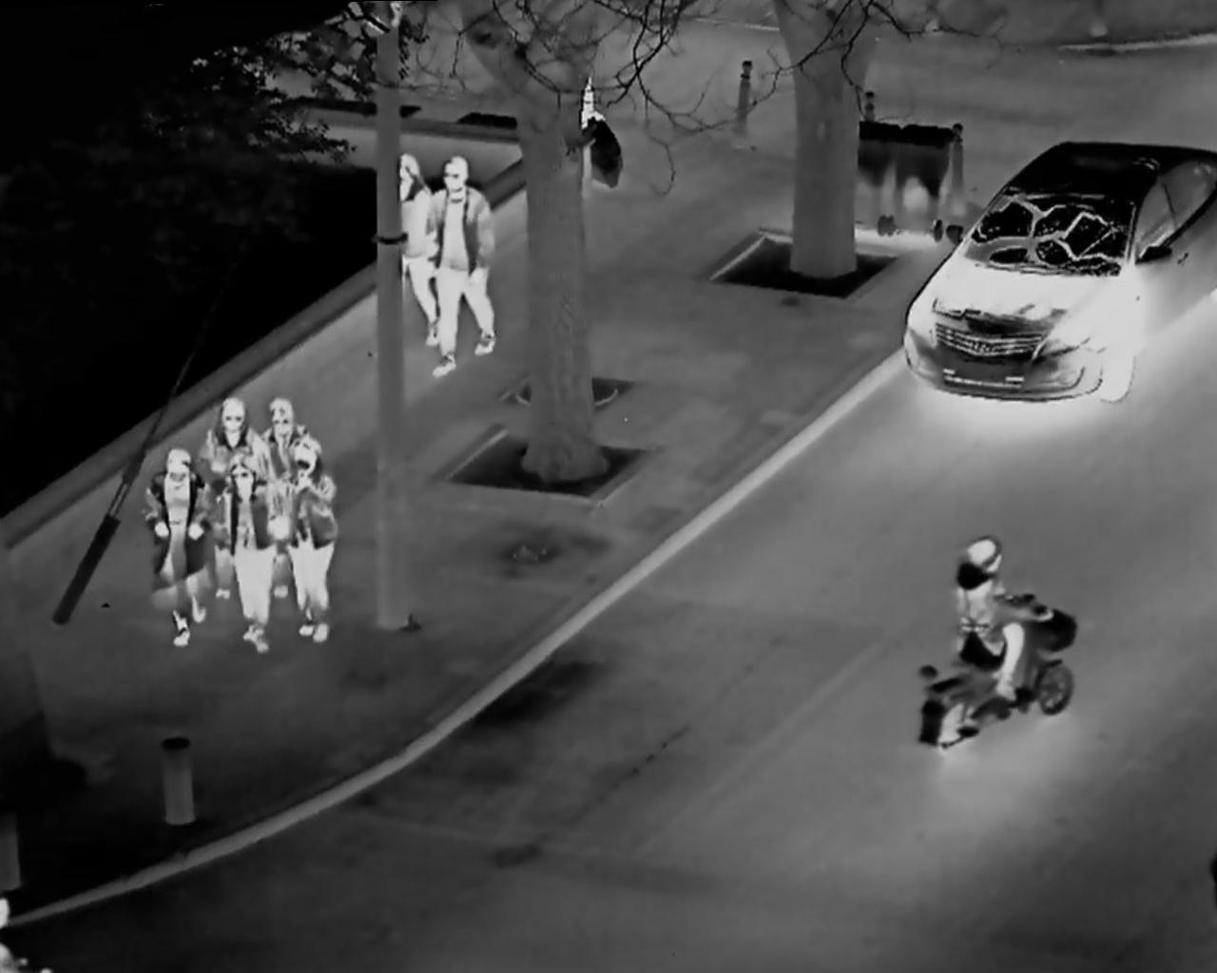person: (921, 520, 1053, 723), (425, 140, 497, 376), (143, 442, 222, 655), (271, 438, 348, 651), (215, 455, 276, 656), (377, 146, 435, 336), (258, 385, 321, 468), (202, 395, 262, 468)
